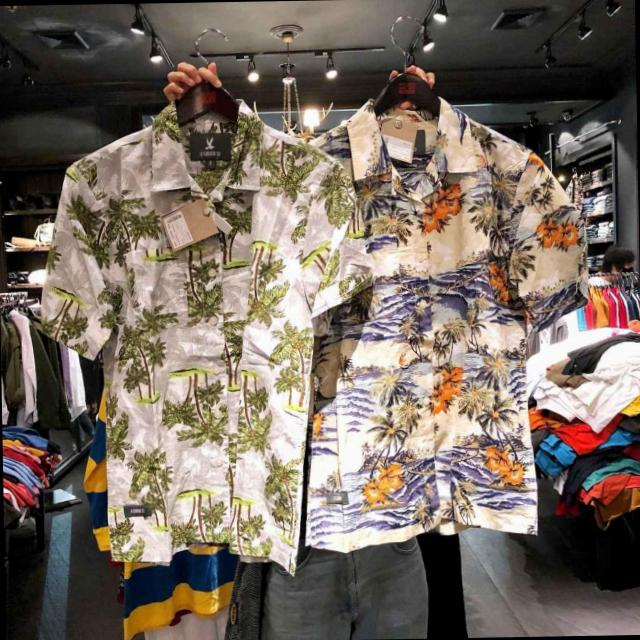shirt: (46, 115, 384, 574), (253, 108, 594, 562)
